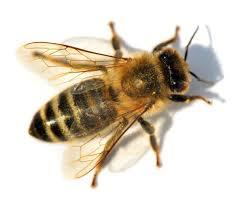Apis-mellifera-scutellata: (10, 15, 216, 185)
